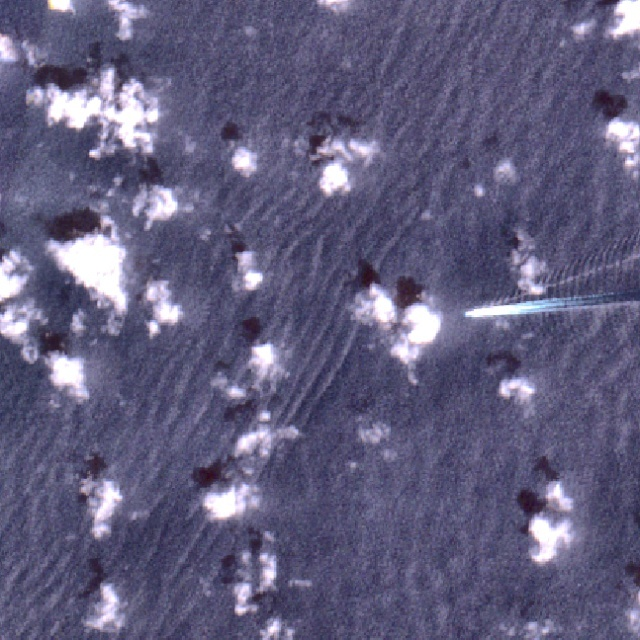wake: (458, 259, 619, 354)
